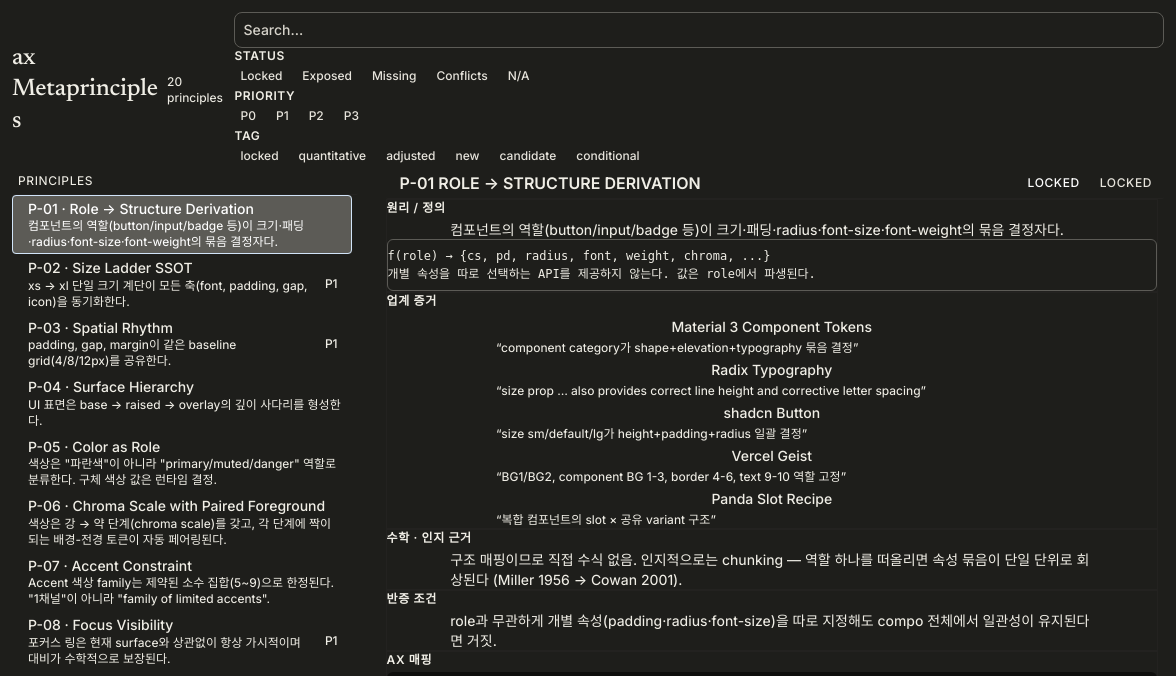
Test case: /ax-principles — screen integration › Priority filter "P1" reduces list to 3 principles
The width and height of the screenshot is (1176, 676).
Click the button "P1".
click(282, 116)  # box [270,104,295,128]
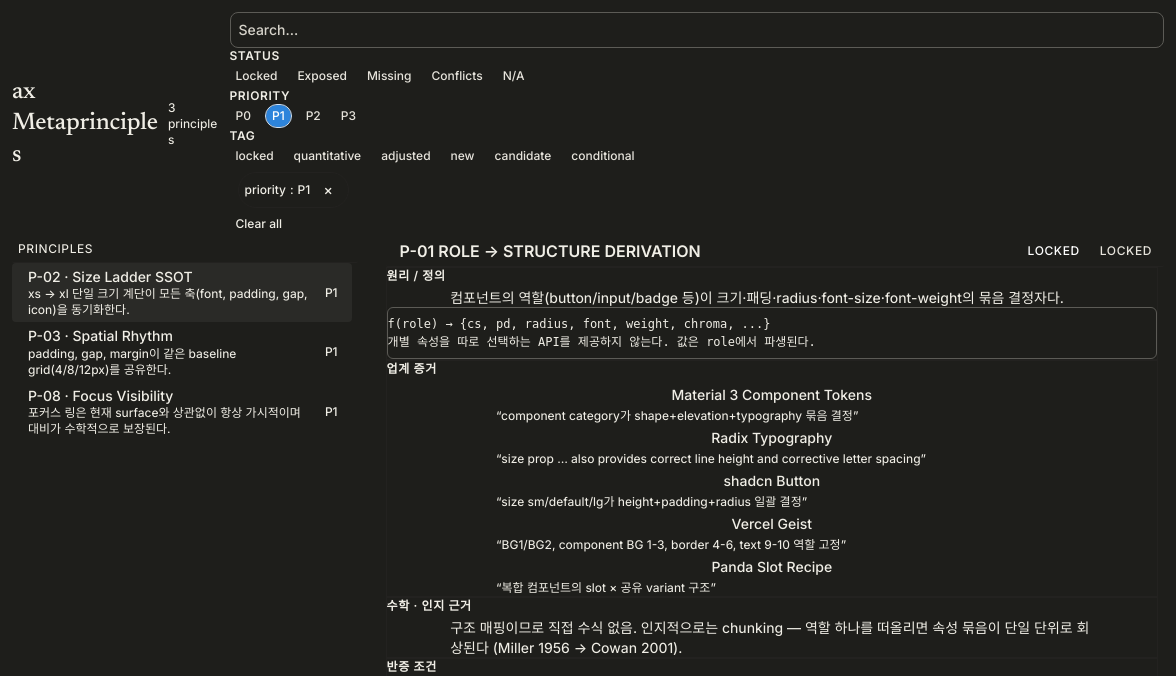
expect the number of options is 3: met, box [12,263,352,322]; [12,322,352,382]; [12,382,352,441]
